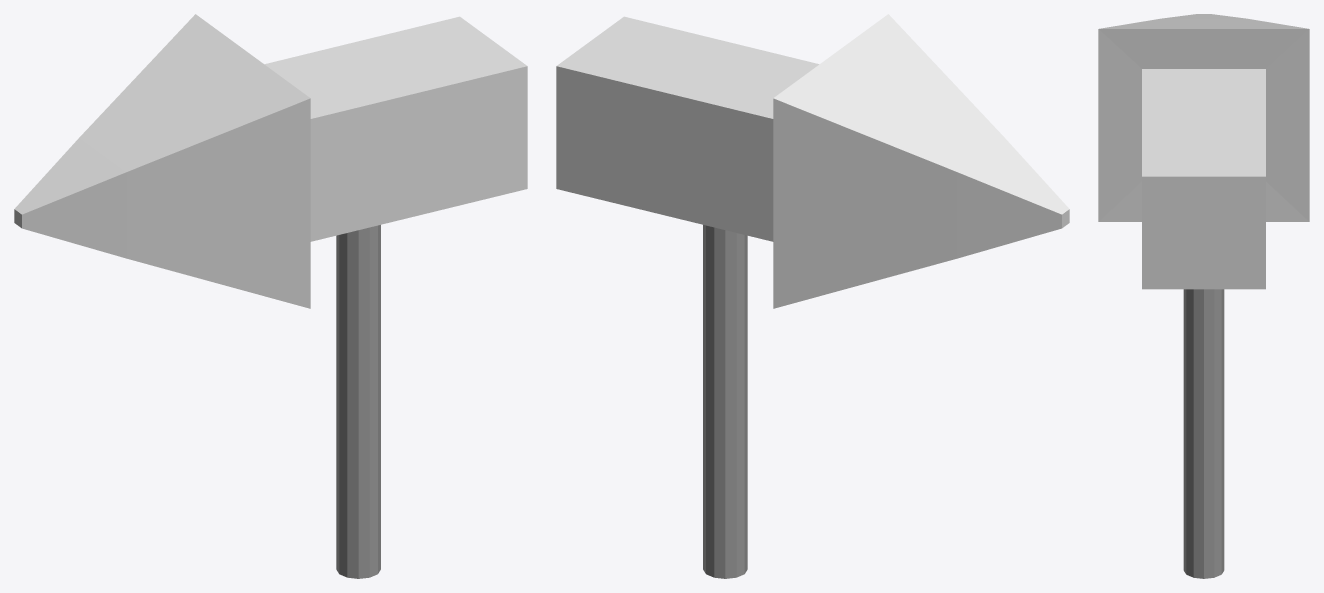
File: oneWaySign_v3.fbx
3 views of the same model, side by side, from view 1: azimuth 30°, elevation 25°; view 2: azimuth 150°, elevation 25°; view 3: azimuth 270°, elevation 25° (orthographic). The views are drawn at different scales.
Visible parts, largest first — view 1: oneWay_cube_01, oneWay_pole_01; view 2: oneWay_cube_01, oneWay_pole_01; view 3: oneWay_cube_01, oneWay_pole_01.
Part boxes in pixels (x1=…): oneWay_cube_01: x1=14, y1=14, x2=527, y2=308; oneWay_pole_01: x1=336, y1=225, x2=380, y2=578; oneWay_cube_01: x1=556, y1=14, x2=1069, y2=308; oneWay_pole_01: x1=703, y1=225, x2=747, y2=578; oneWay_cube_01: x1=1098, y1=14, x2=1309, y2=289; oneWay_pole_01: x1=1183, y1=289, x2=1224, y2=578.
Size of the model in its own units: 17.33 by 18.77 by 7.27.
